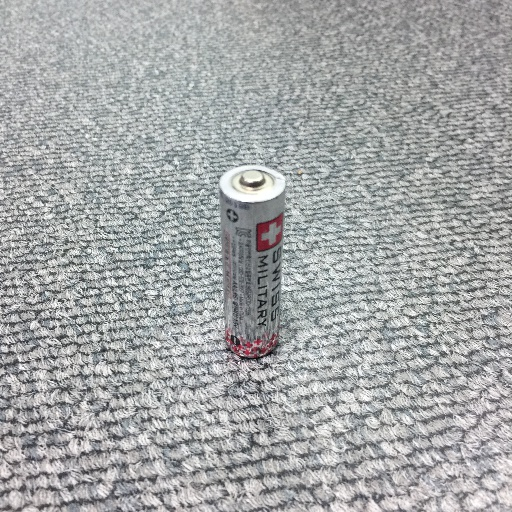Battery_0: (214, 160, 288, 363)
